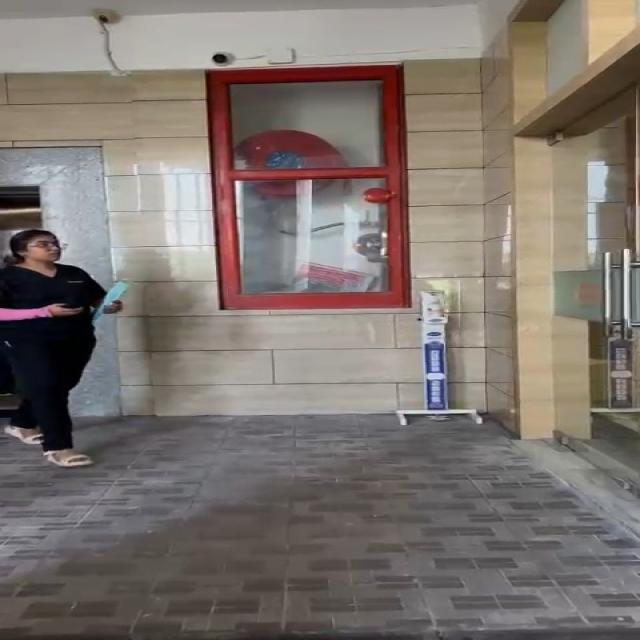floor: (0, 427, 640, 640)
moving_object: (0, 222, 119, 460)
wall: (80, 85, 217, 422), (422, 22, 545, 282), (219, 313, 409, 419)
